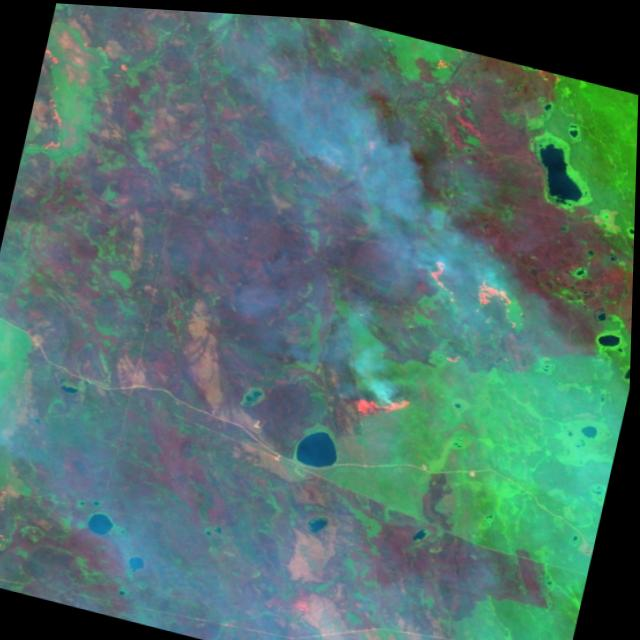fire: (405, 238, 541, 329), (0, 396, 41, 588), (334, 365, 435, 440)
